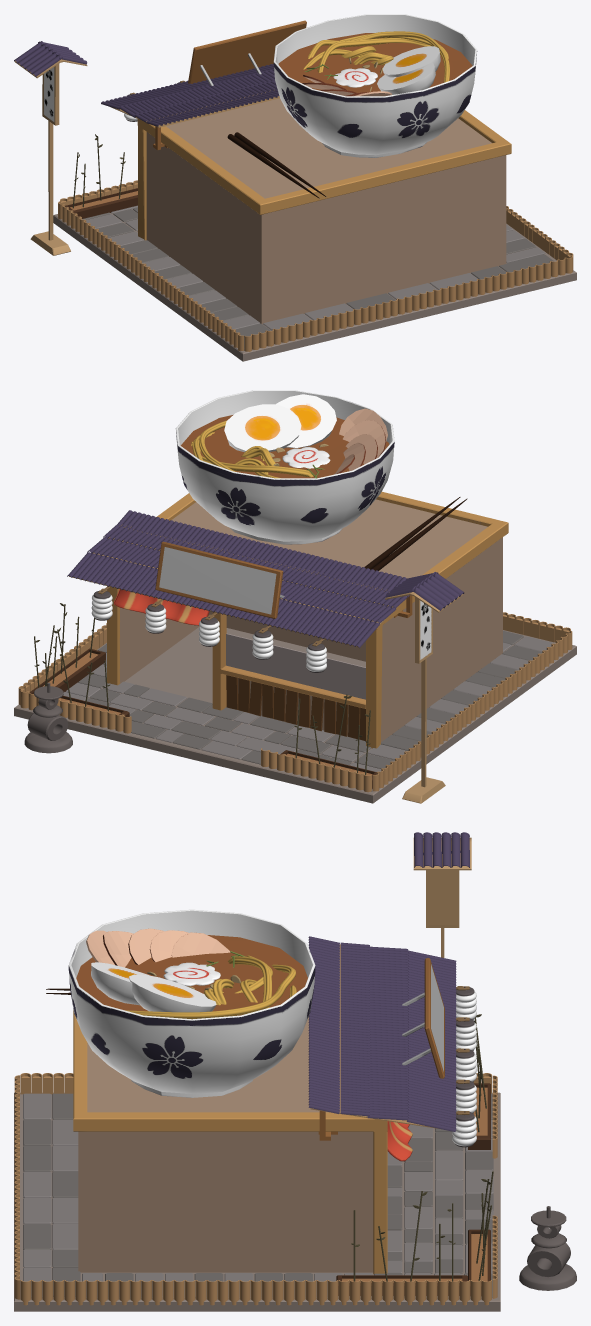
The model's file is Main_Restaurantfbx.fbx.
3 views of the same model, one above another, from view 1: azimuth 30°, elevation 25°; view 2: azimuth 150°, elevation 25°; view 3: azimuth 270°, elevation 25° (orthographic). The views are drawn at different scales.
Visible parts, largest first — view 1: MSH_Restaurant, MSH_Tazon/Palillos, MSH_piso, MSH_Regita, MSH_Tejado/Techo, MSH_Ingredientes, MSH_Letreros/Soportes, MSH_Masetas; view 2: MSH_Restaurant, MSH_piso, MSH_Tejado/Techo, MSH_Tazon/Palillos, MSH_Puestito, MSH_Ingredientes, MSH_Regita, MSH_Letreros/Soportes, MSH_Masetas, MSH_Lamparas, MSH_Fuente, MSH_Sombrita; view 3: MSH_Restaurant, MSH_piso, MSH_Tazon/Palillos, MSH_Tejado/Techo, MSH_Regita, MSH_Ingredientes, MSH_Letreros/Soportes, MSH_Masetas, MSH_Lamparas, MSH_Fuente, MSH_Sombrita.
Boxes of the visible parts, bbox=[...] form: MSH_Restaurant: bbox=[137, 98, 511, 324]; MSH_Tazon/Palillos: bbox=[227, 14, 477, 198]; MSH_piso: bbox=[53, 205, 576, 361]; MSH_Regita: bbox=[58, 180, 573, 351]; MSH_Tejado/Techo: bbox=[14, 41, 279, 127]; MSH_Ingredientes: bbox=[302, 31, 449, 96]; MSH_Letreros/Soportes: bbox=[14, 20, 306, 255]; MSH_Masetas: bbox=[65, 134, 137, 218]; MSH_Restaurant: bbox=[107, 491, 508, 748]; MSH_piso: bbox=[14, 626, 576, 803]; MSH_Tejado/Techo: bbox=[67, 510, 464, 647]; MSH_Tazon/Palillos: bbox=[175, 390, 467, 570]; MSH_Puestito: bbox=[212, 612, 365, 740]; MSH_Ingredientes: bbox=[191, 394, 387, 478]; MSH_Regita: bbox=[18, 612, 572, 792]; MSH_Letreros/Soportes: bbox=[155, 541, 462, 803]; MSH_Masetas: bbox=[29, 603, 376, 788]; MSH_Lamparas: bbox=[91, 586, 326, 672]; MSH_Fuente: bbox=[24, 682, 72, 753]; MSH_Sombrita: bbox=[114, 589, 209, 625]; MSH_Restaurant: bbox=[73, 1010, 387, 1274]; MSH_piso: bbox=[14, 1092, 500, 1311]; MSH_Tazon/Palillos: bbox=[46, 909, 315, 1097]; MSH_Tejado/Techo: bbox=[308, 832, 469, 1131]; MSH_Regita: bbox=[14, 1073, 497, 1305]; MSH_Ingredientes: bbox=[86, 928, 296, 1019]; MSH_Letreros/Soportes: bbox=[318, 837, 471, 1140]; MSH_Masetas: bbox=[336, 1014, 493, 1295]; MSH_Lamparas: bbox=[452, 986, 476, 1147]; MSH_Fuente: bbox=[519, 1206, 576, 1290]; MSH_Sombrita: bbox=[387, 1121, 412, 1161].
Size of the model in its own units: 2719 by 1425 by 2677.
